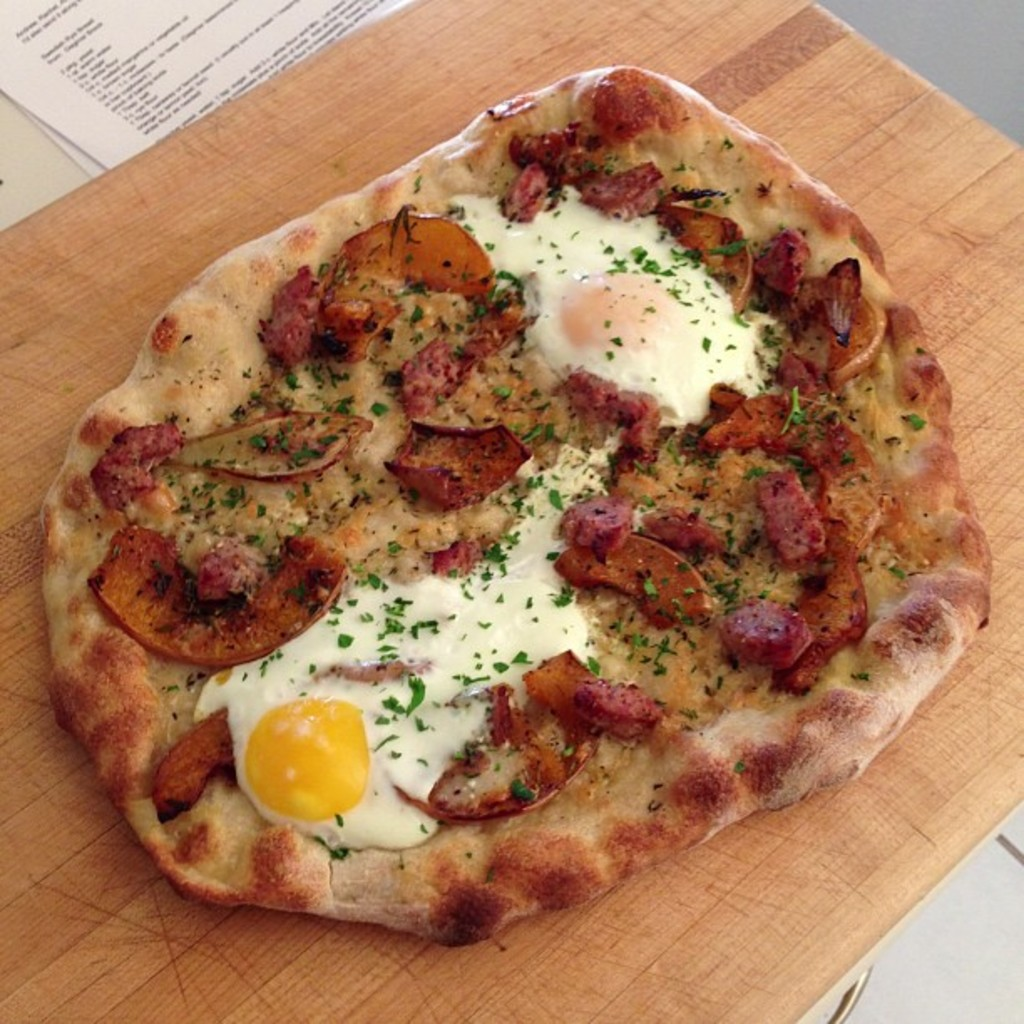Pizza: (25, 63, 1017, 950)
